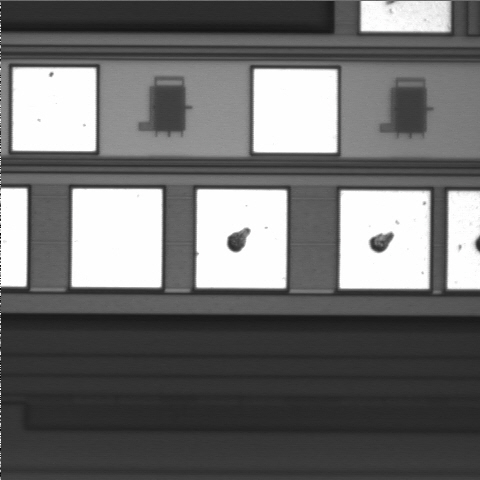pad: (196, 189, 287, 288), (72, 189, 162, 288), (340, 190, 430, 289), (12, 68, 96, 151), (254, 69, 337, 153)
